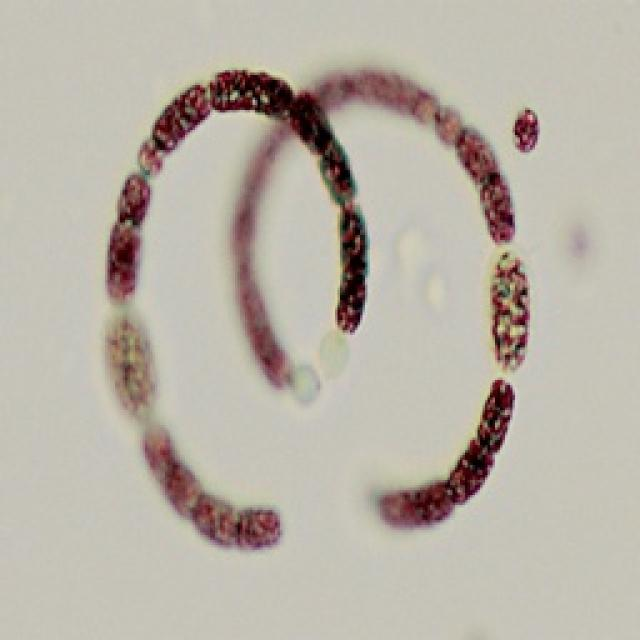Anabaena: (91, 59, 537, 561)
